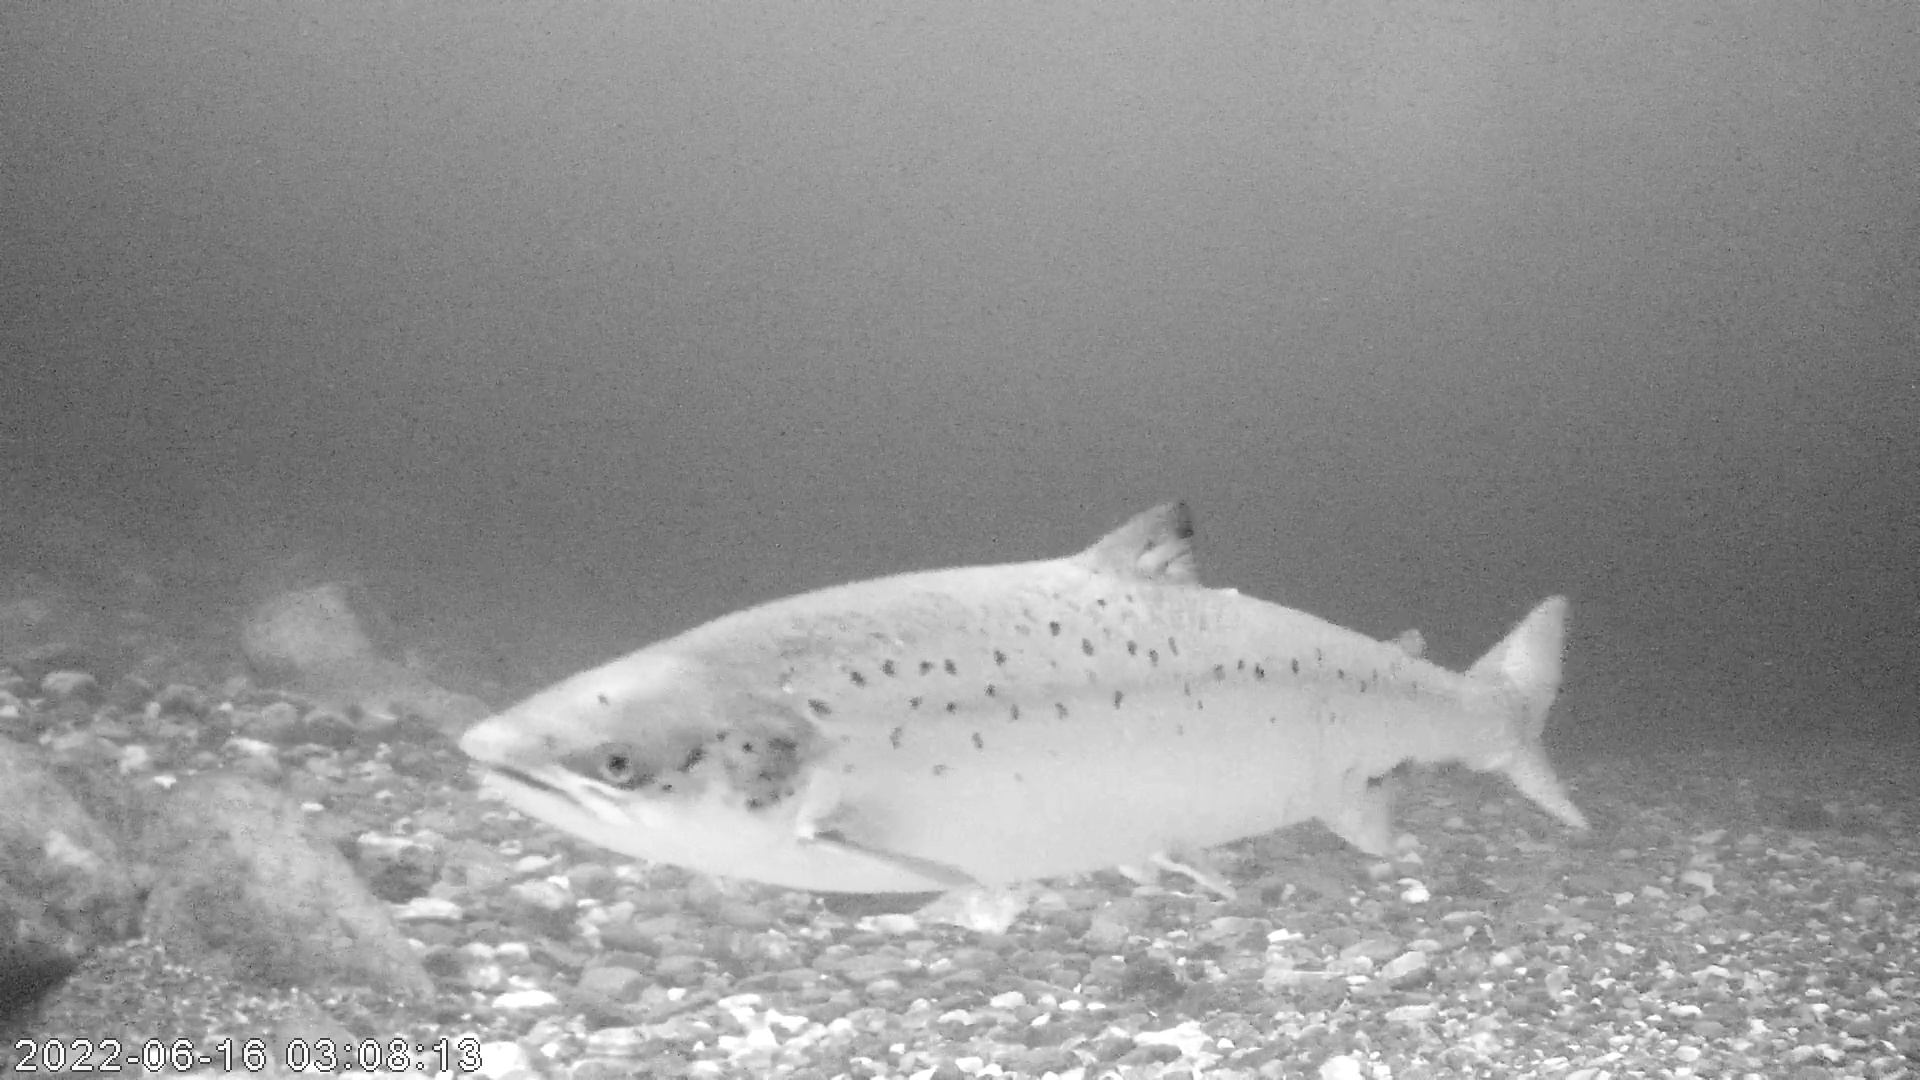salmon: (458, 497, 1592, 895)
